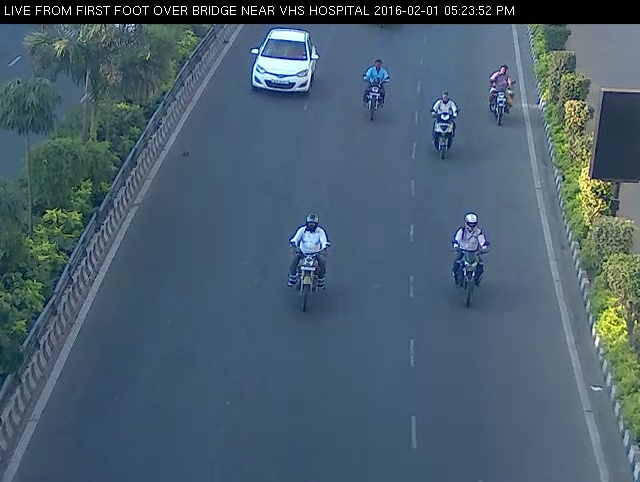Car: (239, 20, 326, 109)
Person: (276, 203, 340, 318), (442, 207, 500, 317), (417, 75, 466, 168), (350, 47, 396, 128), (474, 56, 522, 128)
